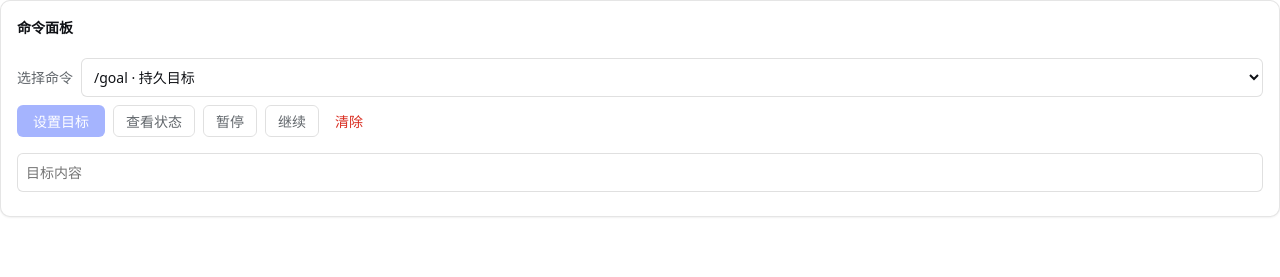
CommandPanel T20.2 持久目标 › sets a goal via /goal set with the typed target
In the field labelled "目标内容": point(640, 172) [17, 153, 1263, 192], type "完成 M15"
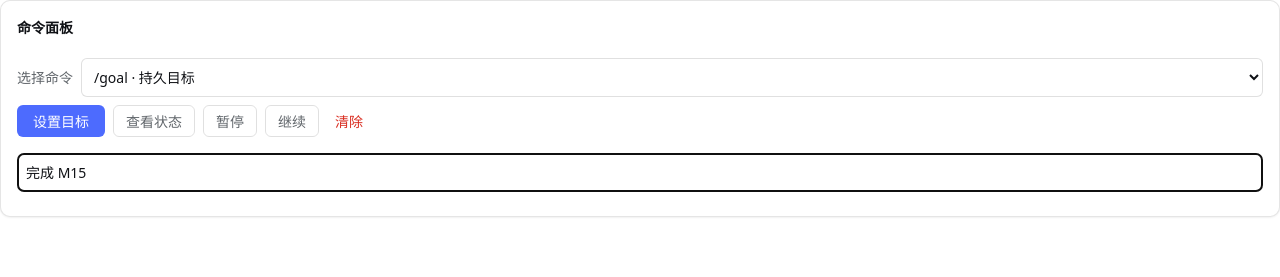
Now the button "设置目标" is enabled
Click the button "设置目标": point(61, 121) [17, 105, 105, 137]
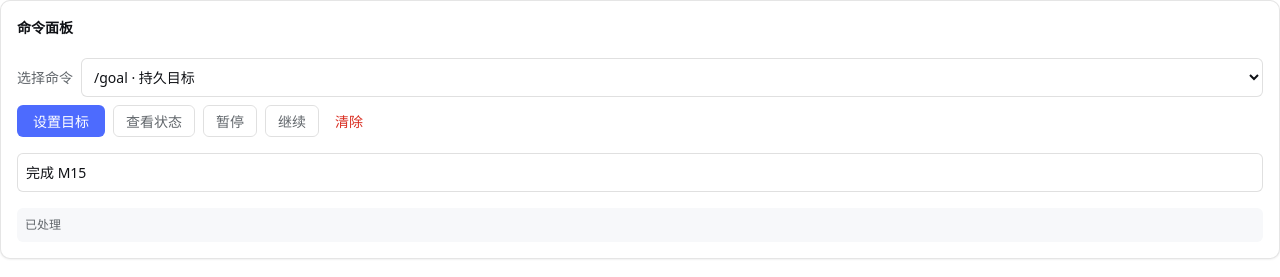
Now the text named "执行结果" reads "已处理", box [25, 218, 61, 232]
